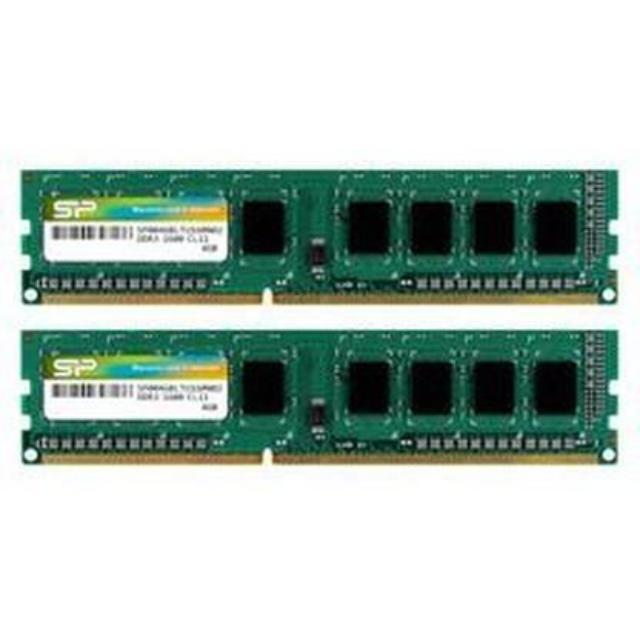RAM: (16, 152, 632, 320), (14, 314, 632, 477)
